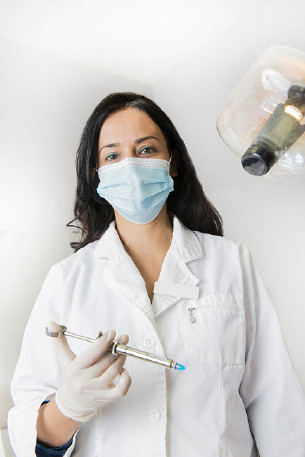face_mask: (99, 115, 167, 223)
